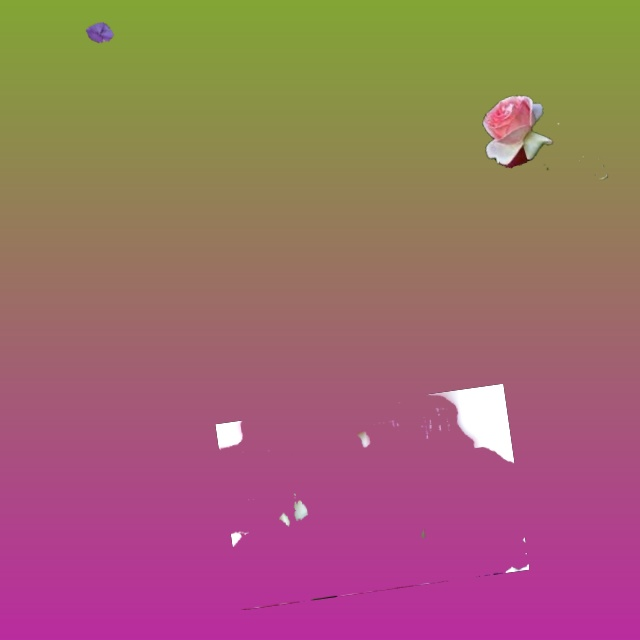butterfly flower: (86, 22, 113, 42)
rose: (215, 384, 528, 609), (482, 96, 607, 178)
